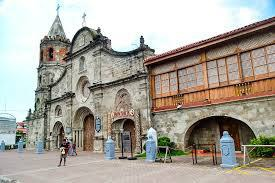barasoain_church_malolos_bulacan: (25, 3, 154, 156)
